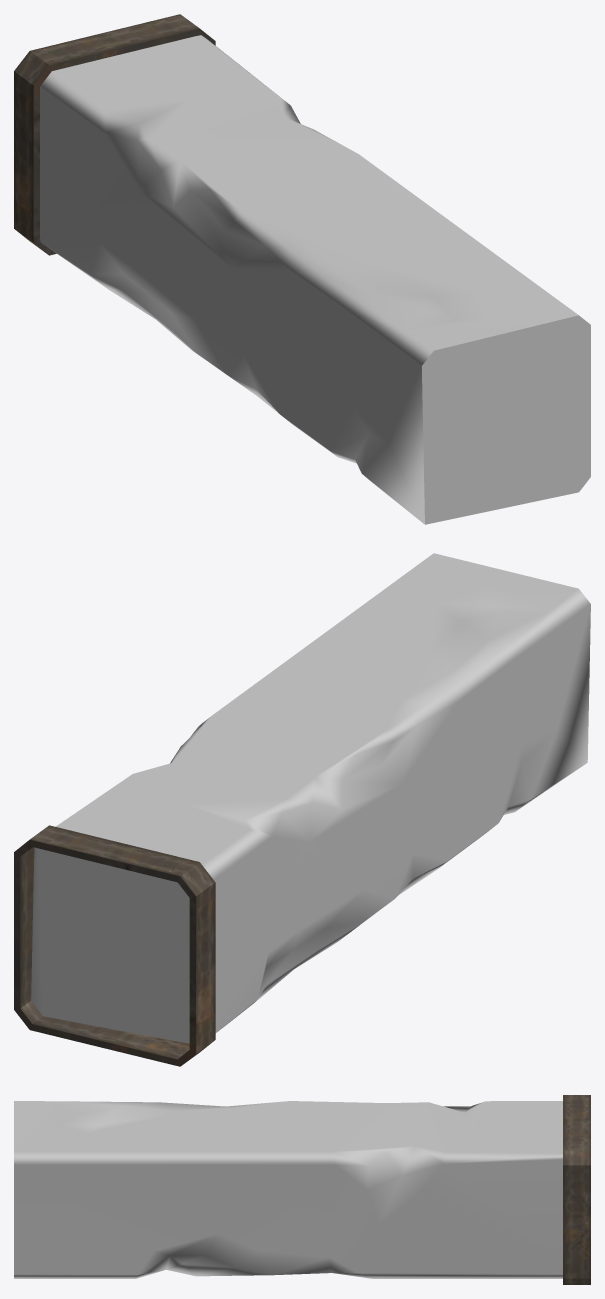
The picture shows the model from 3 angles, top to bottom: view 1: azimuth 30°, elevation 25°; view 2: azimuth 150°, elevation 25°; view 3: azimuth 270°, elevation 25°; orthographic projection. The views are drawn at different scales.
Parts seen in each view (by area): view 1: SM_WoodSupport_4M_LOD0; view 2: SM_WoodSupport_4M_LOD0; view 3: SM_WoodSupport_4M_LOD0.
Boxes of the visible parts, box(x1,y1,x2,y2) form: SM_WoodSupport_4M_LOD0: box(14, 14, 590, 524); SM_WoodSupport_4M_LOD0: box(14, 553, 590, 1066); SM_WoodSupport_4M_LOD0: box(14, 1095, 590, 1284).
Size of the model in its own units: 1.08 by 1.08 by 4.11.
